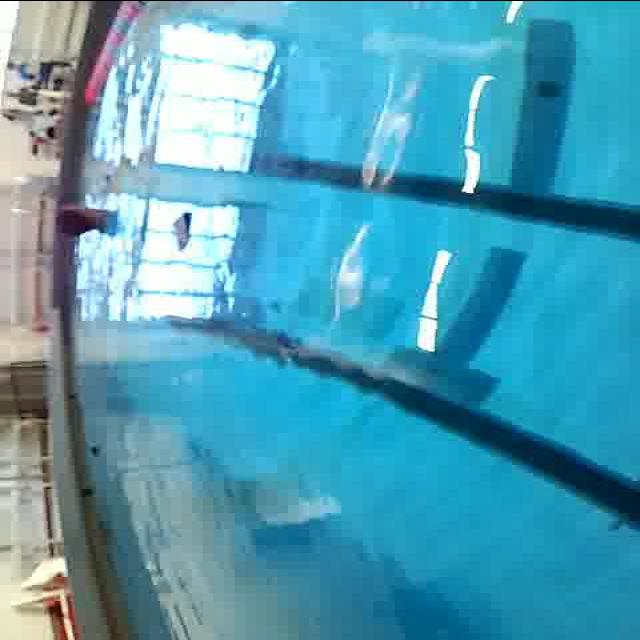Bottle: (161, 208, 204, 252)
